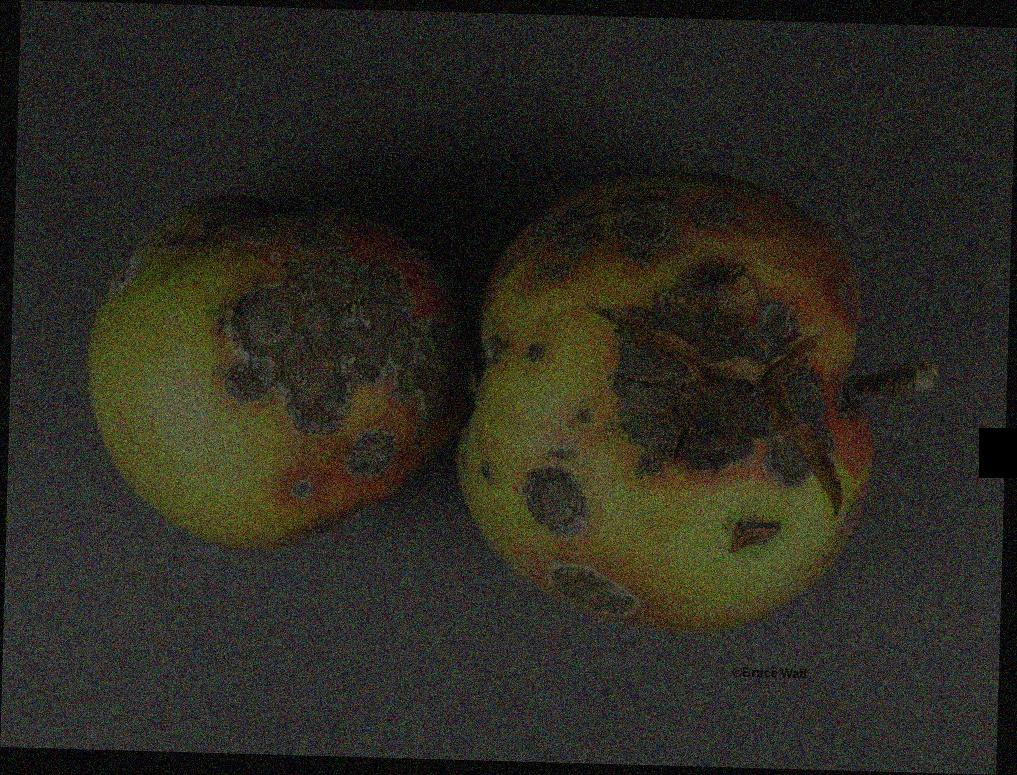rotten apple: (469, 159, 905, 631), (59, 185, 463, 579)
